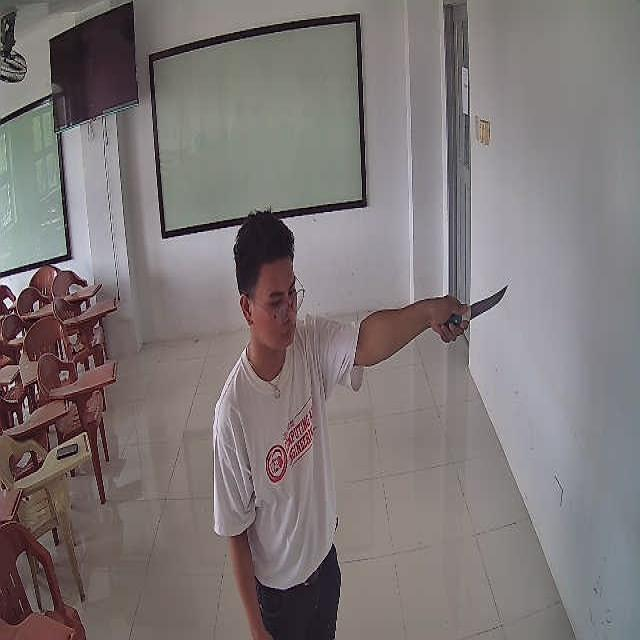knife: (445, 284, 509, 325)
